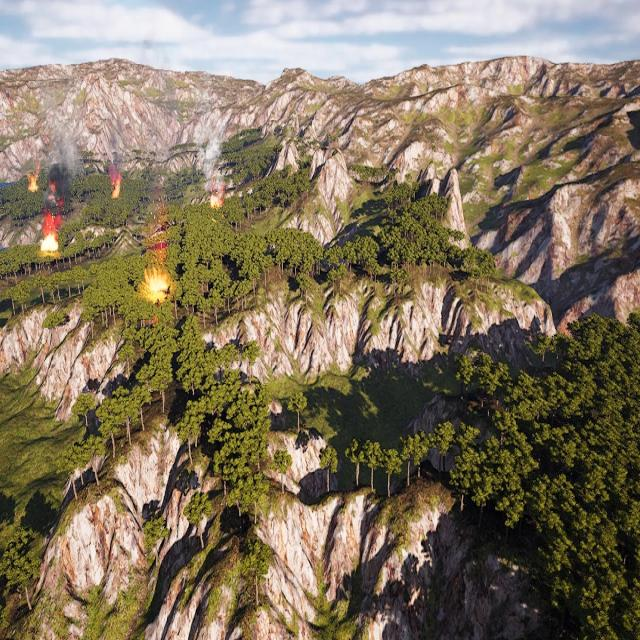fire: (146, 273, 168, 299), (40, 231, 58, 252), (110, 174, 122, 200), (28, 169, 39, 191), (211, 195, 223, 209)
smoke: (43, 113, 85, 228), (199, 117, 225, 193), (42, 181, 64, 231), (109, 154, 120, 184)
